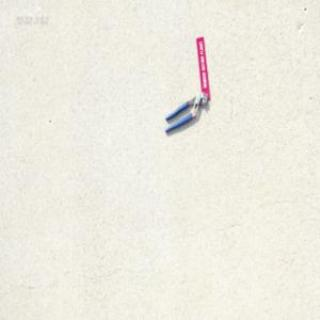LuggageTagtrack_idkeyframe: (195, 34, 210, 99)
Pliertrack_idkeyframe: (163, 90, 208, 133)
